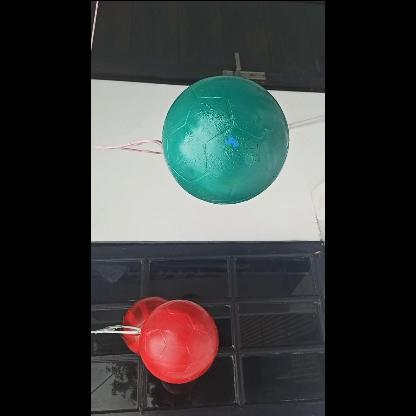red_ball: (136, 300, 218, 384)
